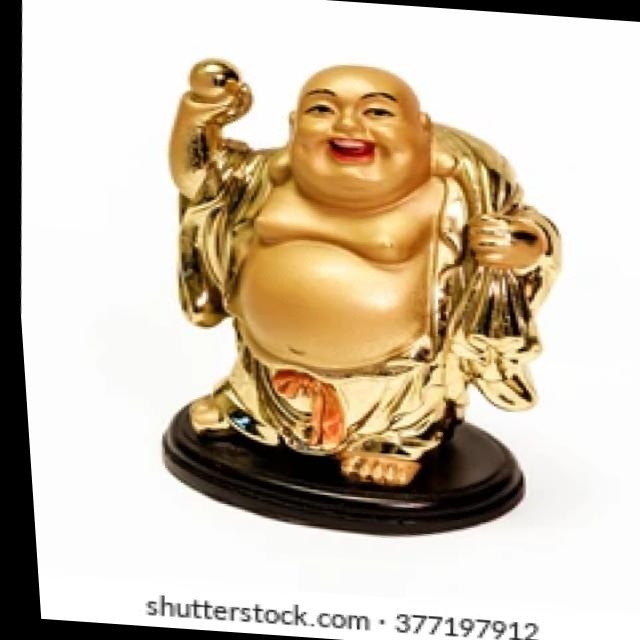Smiling Buddha: (133, 47, 522, 501)
